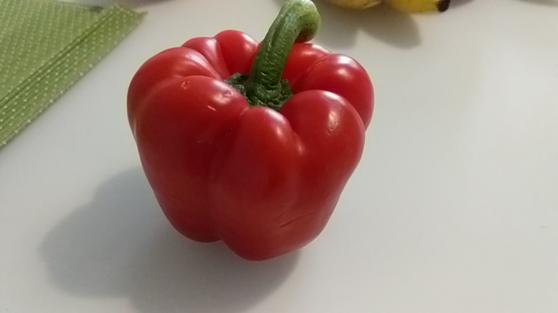pepper: (123, 1, 375, 261)
